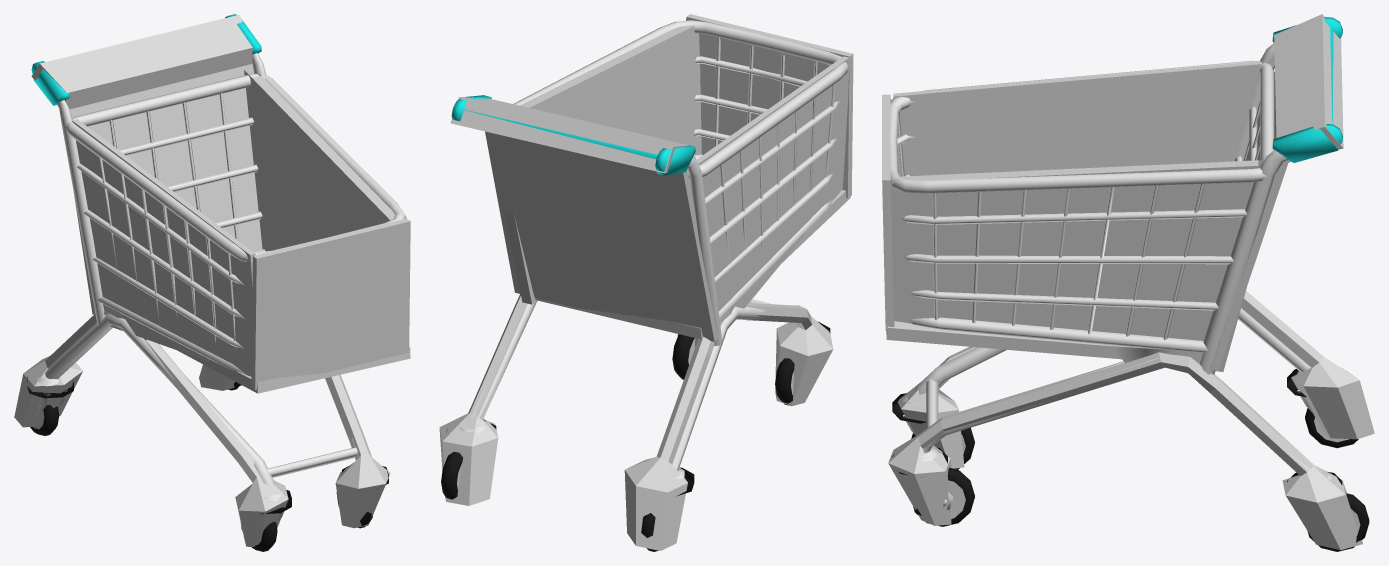
Rendered from ShopingCart.fbx.
3 renders of one model, left to right at view 1: azimuth 30°, elevation 25°; view 2: azimuth 150°, elevation 25°; view 3: azimuth 270°, elevation 25°, orthographic. The views are drawn at different scales.
Visible parts, largest first — view 1: ShopingCart, Cube.002, Cube.003, Cube, Cube.001, Cylinder.001, Cylinder, Cube.004; view 2: Cube.002, ShopingCart, Cube, Cube.001, Cylinder.001, Cube.003, Cylinder, Cube.004; view 3: Cube.001, ShopingCart, Cube, Cylinder, Cube.002, Cylinder.001, Cube.004, Cube.003.
Boxes of the visible parts, left/top/right/bottom form: ShopingCart: left=27, top=14, right=406, bottom=551; Cube.002: left=31, top=14, right=262, bottom=314; Cube.003: left=251, top=218, right=410, bottom=389; Cube: left=72, top=119, right=255, bottom=376; Cube.001: left=244, top=70, right=394, bottom=251; Cylinder.001: left=14, top=311, right=288, bottom=546; Cylinder: left=199, top=364, right=390, bottom=528; Cube.004: left=178, top=347, right=410, bottom=393; Cube.002: left=450, top=97, right=717, bottom=341; ShopingCart: left=441, top=20, right=848, bottom=551; Cube: left=697, top=56, right=849, bottom=311; Cube.001: left=505, top=25, right=701, bottom=304; Cylinder.001: left=624, top=303, right=833, bottom=550; Cube.003: left=686, top=14, right=853, bottom=197; Cylinder: left=439, top=294, right=697, bottom=505; Cube.004: left=535, top=179, right=850, bottom=339; Cube.001: left=891, top=160, right=1280, bottom=371; ShopingCart: left=889, top=17, right=1369, bottom=551; Cube: left=893, top=61, right=1261, bottom=176; Cylinder: left=888, top=352, right=1362, bottom=550; Cube.002: left=1210, top=14, right=1343, bottom=370; Cylinder.001: left=898, top=291, right=1374, bottom=468; Cube.004: left=886, top=321, right=1121, bottom=359; Cube.003: left=882, top=94, right=894, bottom=330.
Size of the model in its own units: 71.47 by 109 by 113.
